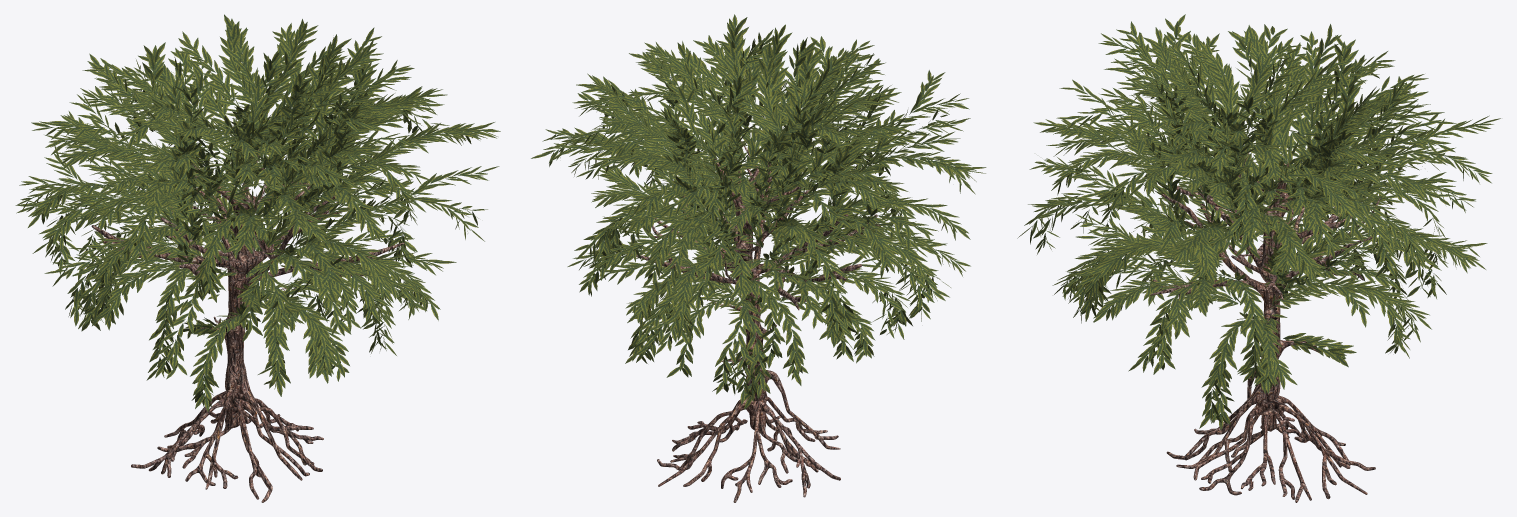
Rendered from ArvoreClose.fbx.
3 views of the same model, side by side, from view 1: azimuth 30°, elevation 25°; view 2: azimuth 150°, elevation 25°; view 3: azimuth 270°, elevation 25° (orthographic). The views are drawn at different scales.
Parts seen in each view (by area): view 1: leaves, Cube; view 2: leaves, Cube; view 3: leaves, Cube.
Boxes of the visible parts, bbox=[...] form: leaves: bbox=[15, 14, 500, 411]; Cube: bbox=[91, 134, 404, 502]; leaves: bbox=[531, 14, 986, 409]; Cube: bbox=[621, 140, 879, 502]; leaves: bbox=[1017, 14, 1500, 429]; Cube: bbox=[1150, 153, 1380, 502].
Size of the model in its own units: 7115 by 6934 by 7020.
